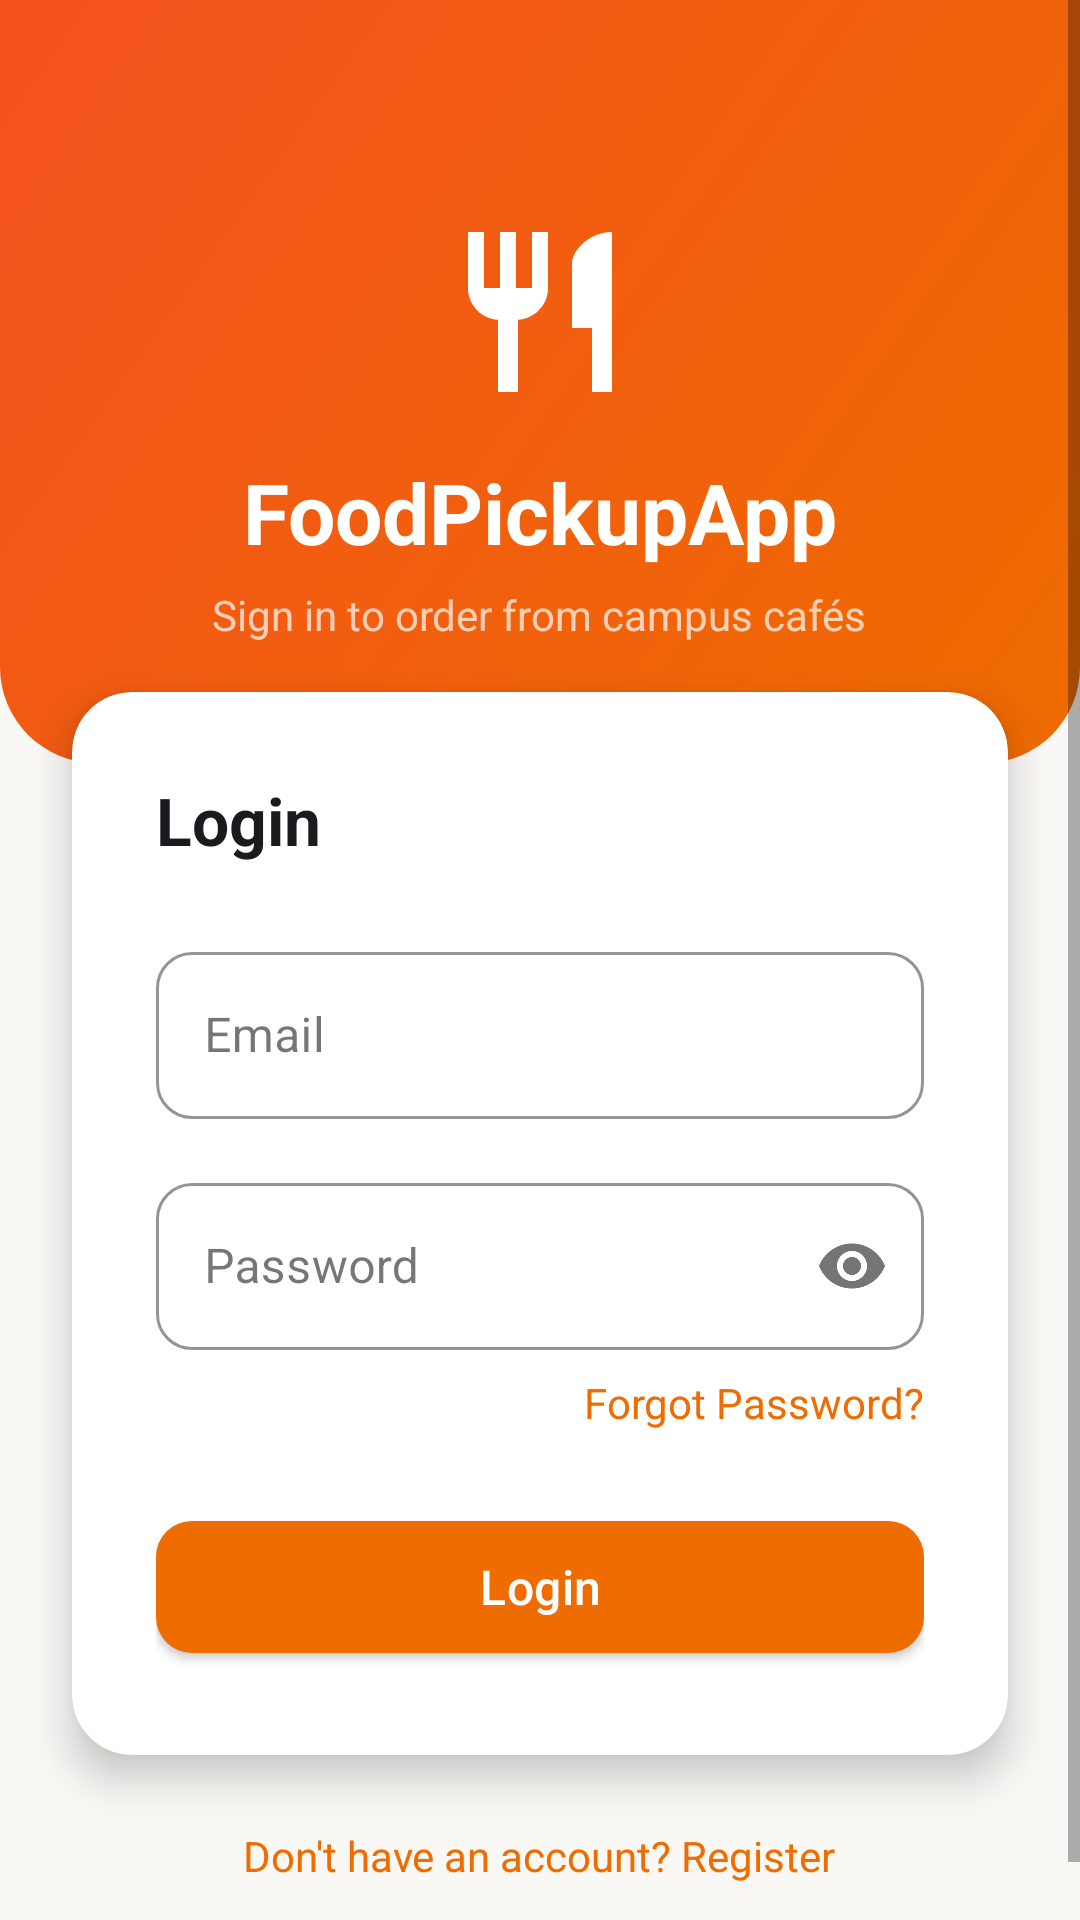

Locate icon controls on the screen. Image size 1080x1920, boxes as (x1, y1, x2, y2).
restaurant: (468, 232, 612, 392)
